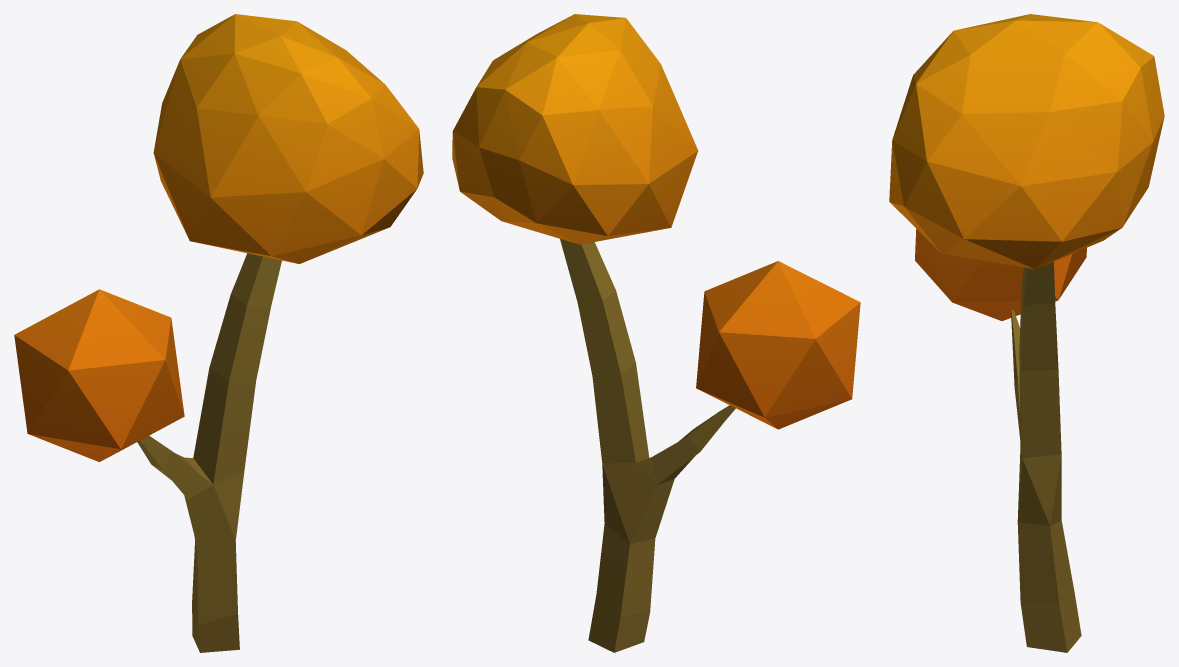
Rendered from tree_6.glb.
3 views of the same model, side by side, from view 1: azimuth 30°, elevation 25°; view 2: azimuth 150°, elevation 25°; view 3: azimuth 270°, elevation 25° (orthographic). The views are drawn at different scales.
Parts seen in each view (by area): view 1: tree_6; view 2: tree_6; view 3: tree_6.
Part boxes in pixels (<box>): tree_6: <box>14,14,423,652</box>; tree_6: <box>452,14,860,652</box>; tree_6: <box>889,14,1164,652</box>.
Size of the model in its own units: 1.47 by 2.25 by 0.8727.
Materials: 1 (1 with a texture image).
